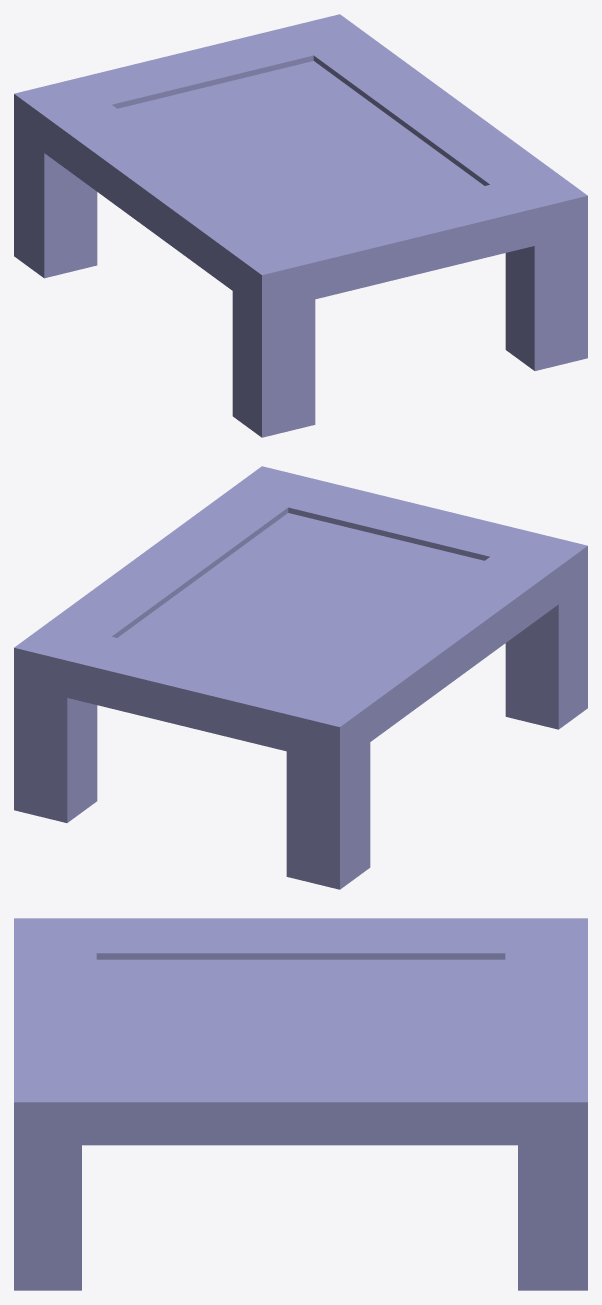
The model's file is cofee_table.fbx.
3 views of the same model, one above another, from view 1: azimuth 30°, elevation 25°; view 2: azimuth 150°, elevation 25°; view 3: azimuth 270°, elevation 25° (orthographic). The views are drawn at different scales.
Parts seen in each view (by area): view 1: cofee_table; view 2: cofee_table; view 3: cofee_table.
Part boxes in pixels (<box>): cofee_table: <box>14,14,587,437</box>; cofee_table: <box>14,466,587,889</box>; cofee_table: <box>14,918,587,1290</box>.
Size of the model in its own units: 75.88 by 36.16 by 100.
